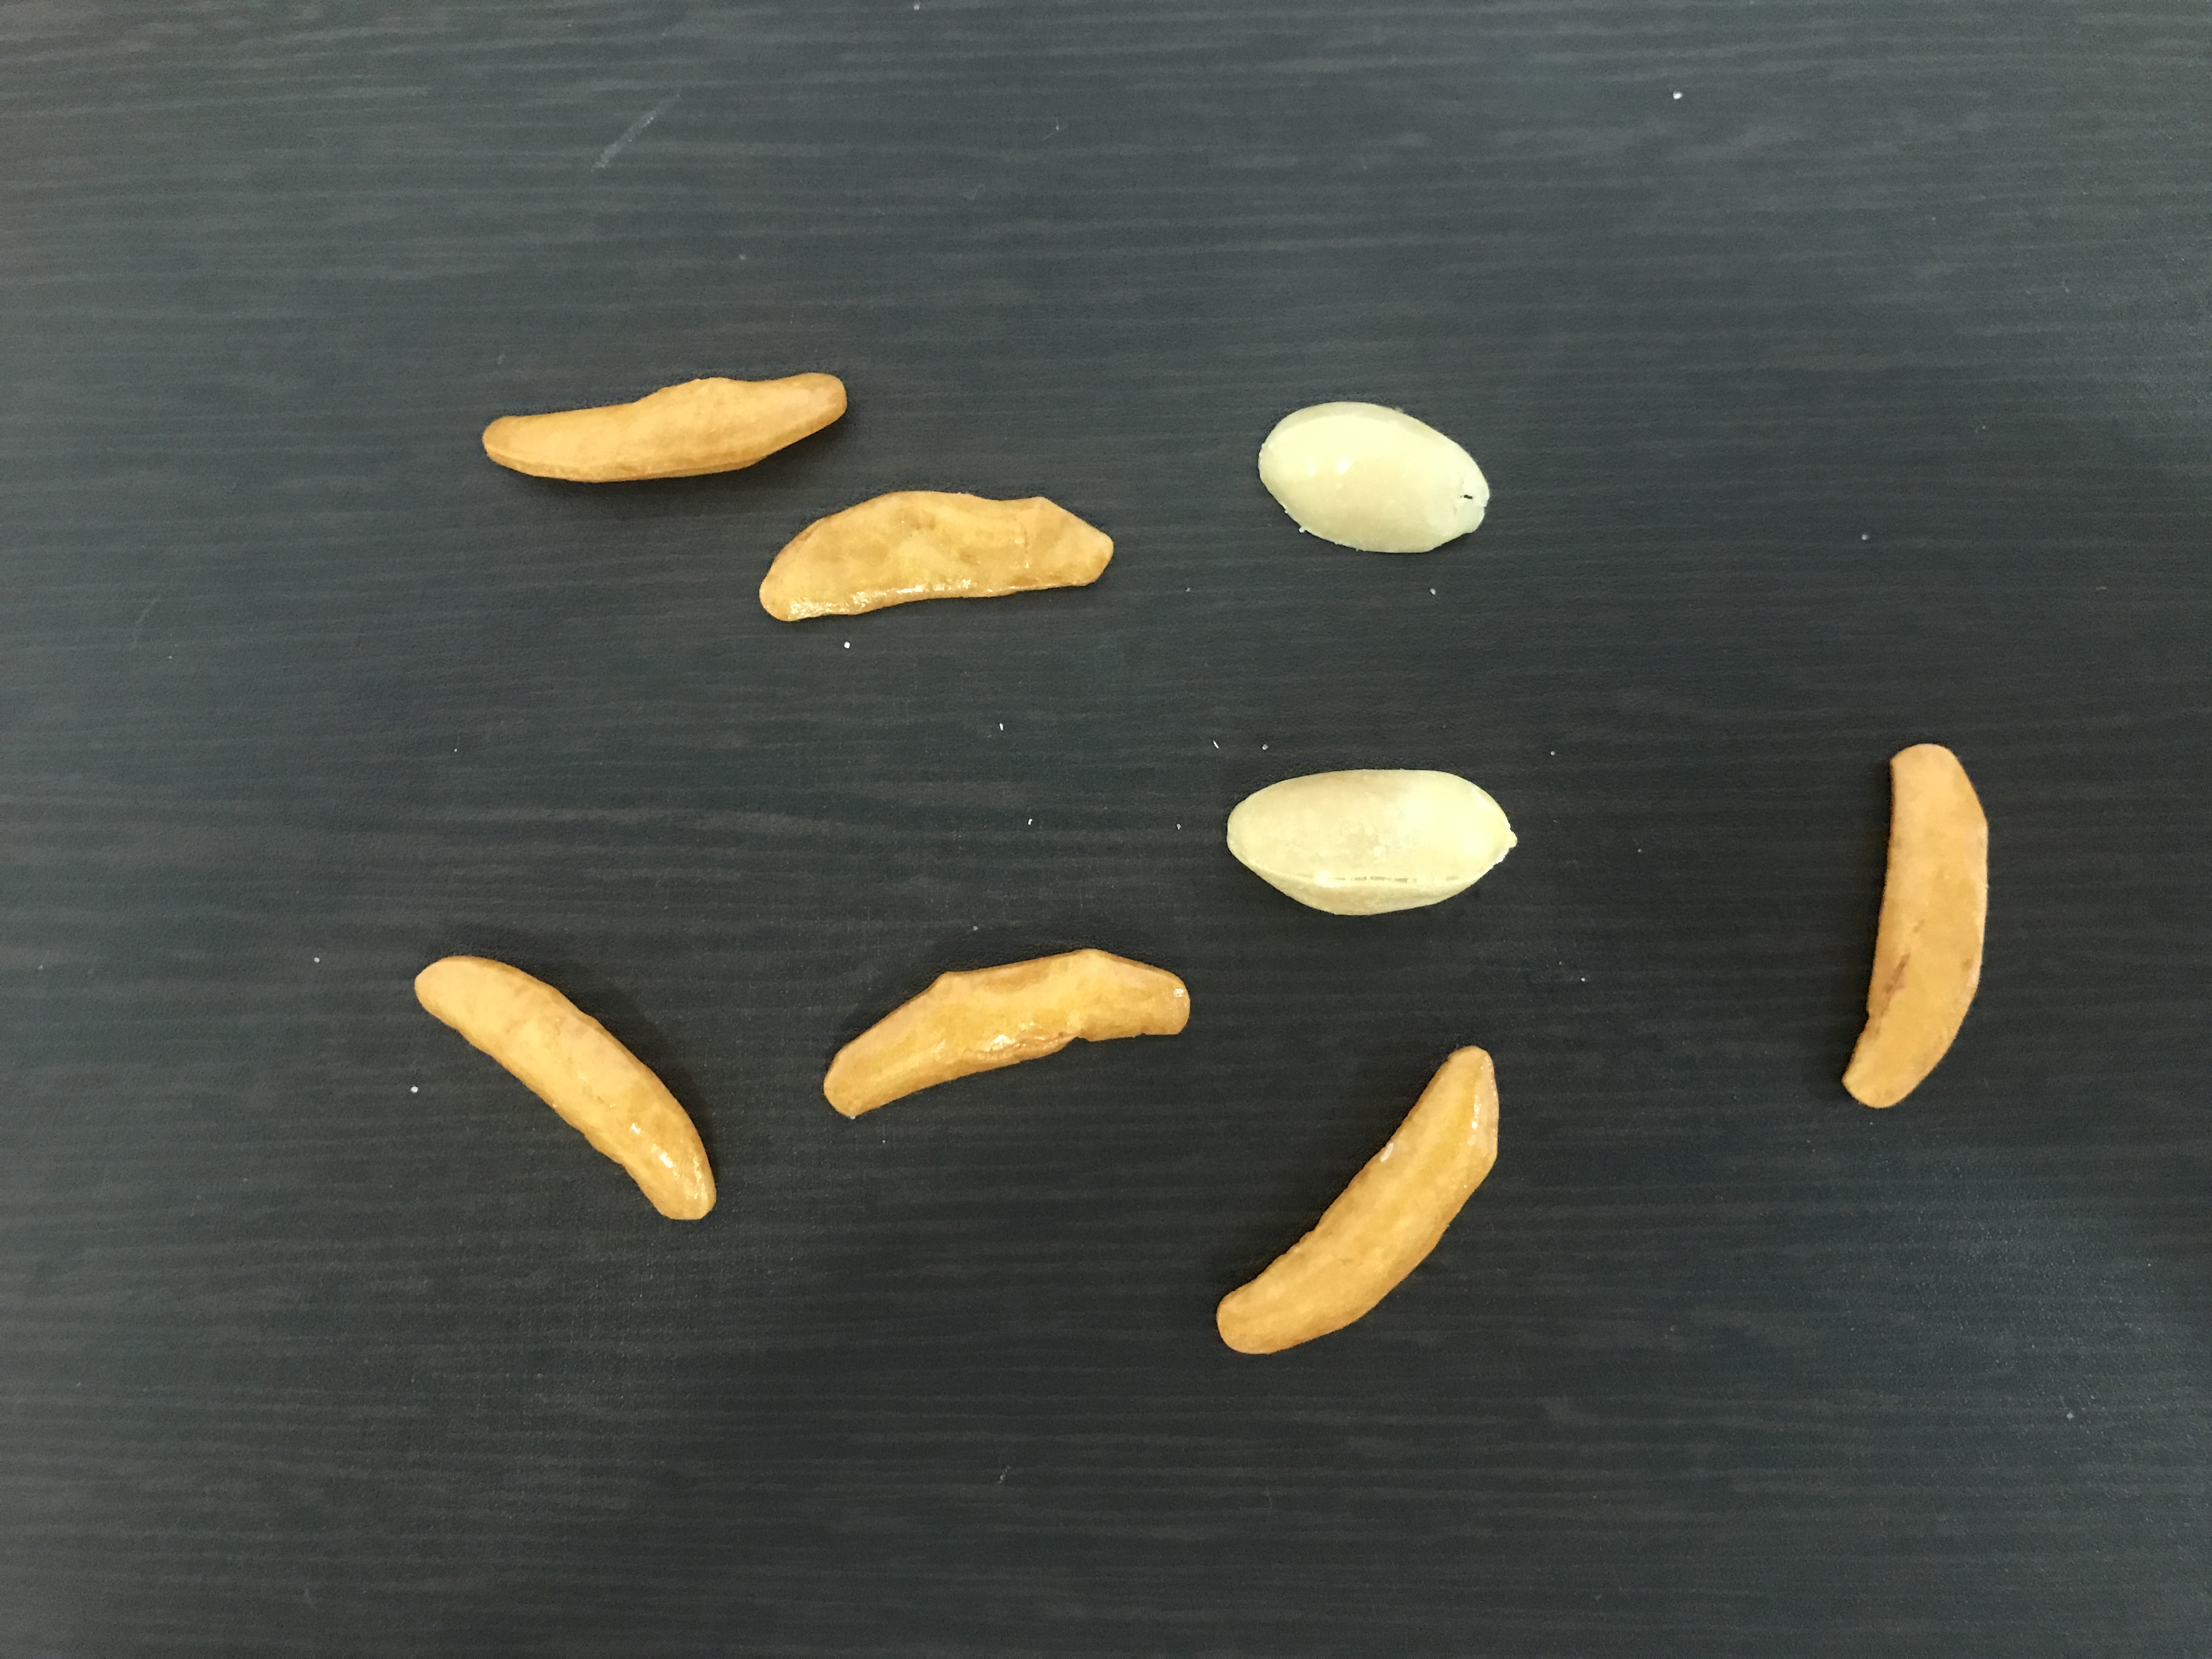peanut: (1221, 760, 1526, 922), (1244, 396, 1507, 561)
